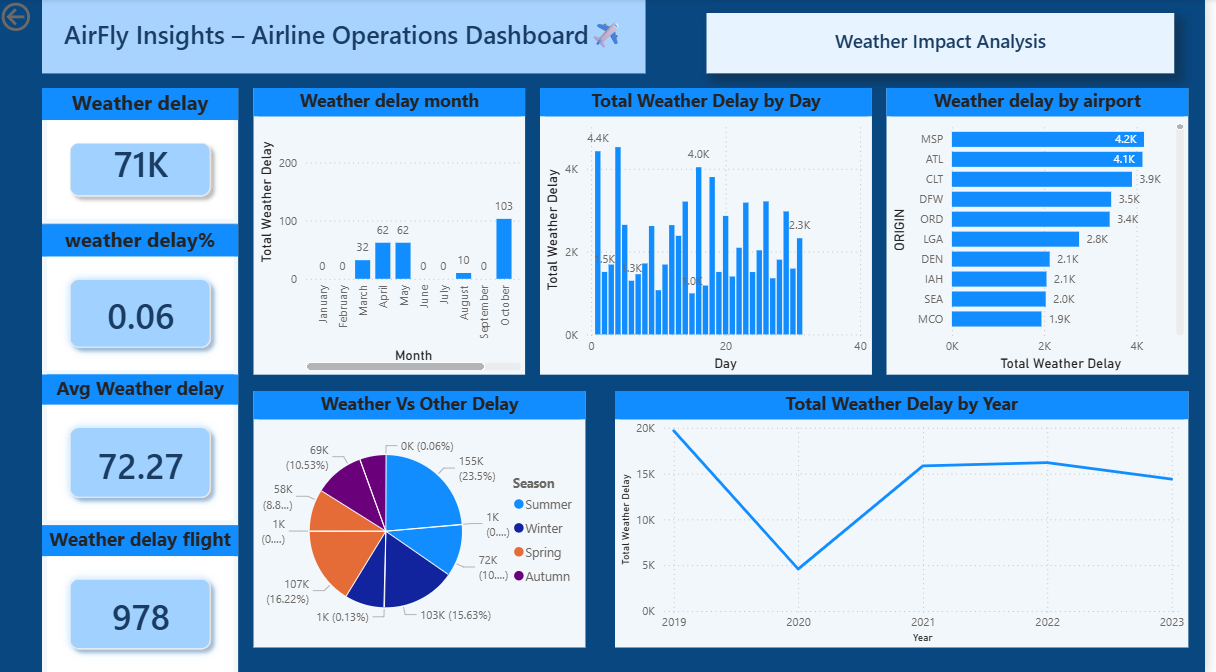

The dashboard page shown, as its layout file describes it:
{"tool":"powerbi","page":{"name":"Weather Impact Analysis","canvas":[1280,720],"ordinal":5},"visuals":[{"type":"textbox","box":[48,0,640,80],"z":0},{"type":"actionButton","box":[752,16,496,64],"z":1000},{"type":"actionButton","box":[0,0,100,40],"z":2000},{"type":"clusteredColumnChart","title":"Weather delay month","fields":{"Category":["data.Date.Variation.Date Hierarchy.Month"],"Y":["data.Total Weather Delay"]},"box":[272,96,288,304],"z":3000},{"type":"pieChart","title":"Weather Vs Other Delay","fields":{"Y":["data.Weather Delay Flights","data.LateAircraftDelay_Total","data.SecurityDelay_Total","data.NASDelay_Total"],"Category":["data.Season"]},"box":[272,416,352,272],"z":4000},{"type":"cardVisual","title":" Weather delay ","fields":{"Data":["data.Total Weather Delay"]},"box":[48,96,208,144],"z":5000},{"type":"cardVisual","title":"weather delay%","fields":{"Data":["data.Weather Delay %"]},"box":[48,240,208,160],"z":6000},{"type":"cardVisual","title":"Avg Weather delay ","fields":{"Data":["data.Avg Weather Delay"]},"box":[48,400,208,160],"z":7000},{"type":"columnChart","fields":{"Category":["data.Date.Variation.Date Hierarchy.Day"],"Y":["data.Total Weather Delay"]},"box":[576,96,352,304],"z":8000},{"type":"barChart","title":"Weather delay by airport ","fields":{"Y":["data.Total Weather Delay"],"Category":["data.ORIGIN"]},"box":[944,96,320,304],"z":9000},{"type":"lineChart","fields":{"Category":["data.Date.Variation.Date Hierarchy.Year","data.Date.Variation.Date Hierarchy.Quarter","data.Date.Variation.Date Hierarchy.Month","data.Date.Variation.Date Hierarchy.Day"],"Y":["data.Total Weather Delay"]},"box":[656,416,608,272],"z":10000},{"type":"cardVisual","title":"Weather delay flight","fields":{"Data":["data.Weather Delay Flights"]},"box":[48,560,208,160],"z":11000}]}

Visuals, with their boxes in screenshot pixels (x1, y1, x2, y2), scaled from the page's 1280x720 canvas onto the 1216x672 screenshot:
textbox: {"x1": 46, "y1": 0, "x2": 654, "y2": 75}
actionButton: {"x1": 714, "y1": 15, "x2": 1186, "y2": 75}
actionButton: {"x1": 0, "y1": 0, "x2": 95, "y2": 37}
"Weather delay month" clusteredColumnChart: {"x1": 258, "y1": 90, "x2": 532, "y2": 373}
"Weather Vs Other Delay" pieChart: {"x1": 258, "y1": 388, "x2": 593, "y2": 642}
" Weather delay " cardVisual: {"x1": 46, "y1": 90, "x2": 243, "y2": 224}
"weather delay%" cardVisual: {"x1": 46, "y1": 224, "x2": 243, "y2": 373}
"Avg Weather delay " cardVisual: {"x1": 46, "y1": 373, "x2": 243, "y2": 523}
columnChart - data.Date.Variation.Date Hierarchy.Day x data.Total Weather Delay: {"x1": 547, "y1": 90, "x2": 882, "y2": 373}
"Weather delay by airport " barChart: {"x1": 897, "y1": 90, "x2": 1201, "y2": 373}
lineChart - data.Date.Variation.Date Hierarchy.Year x data.Date.Variation.Date Hierarchy.Quarter: {"x1": 623, "y1": 388, "x2": 1201, "y2": 642}
"Weather delay flight" cardVisual: {"x1": 46, "y1": 523, "x2": 243, "y2": 671}
